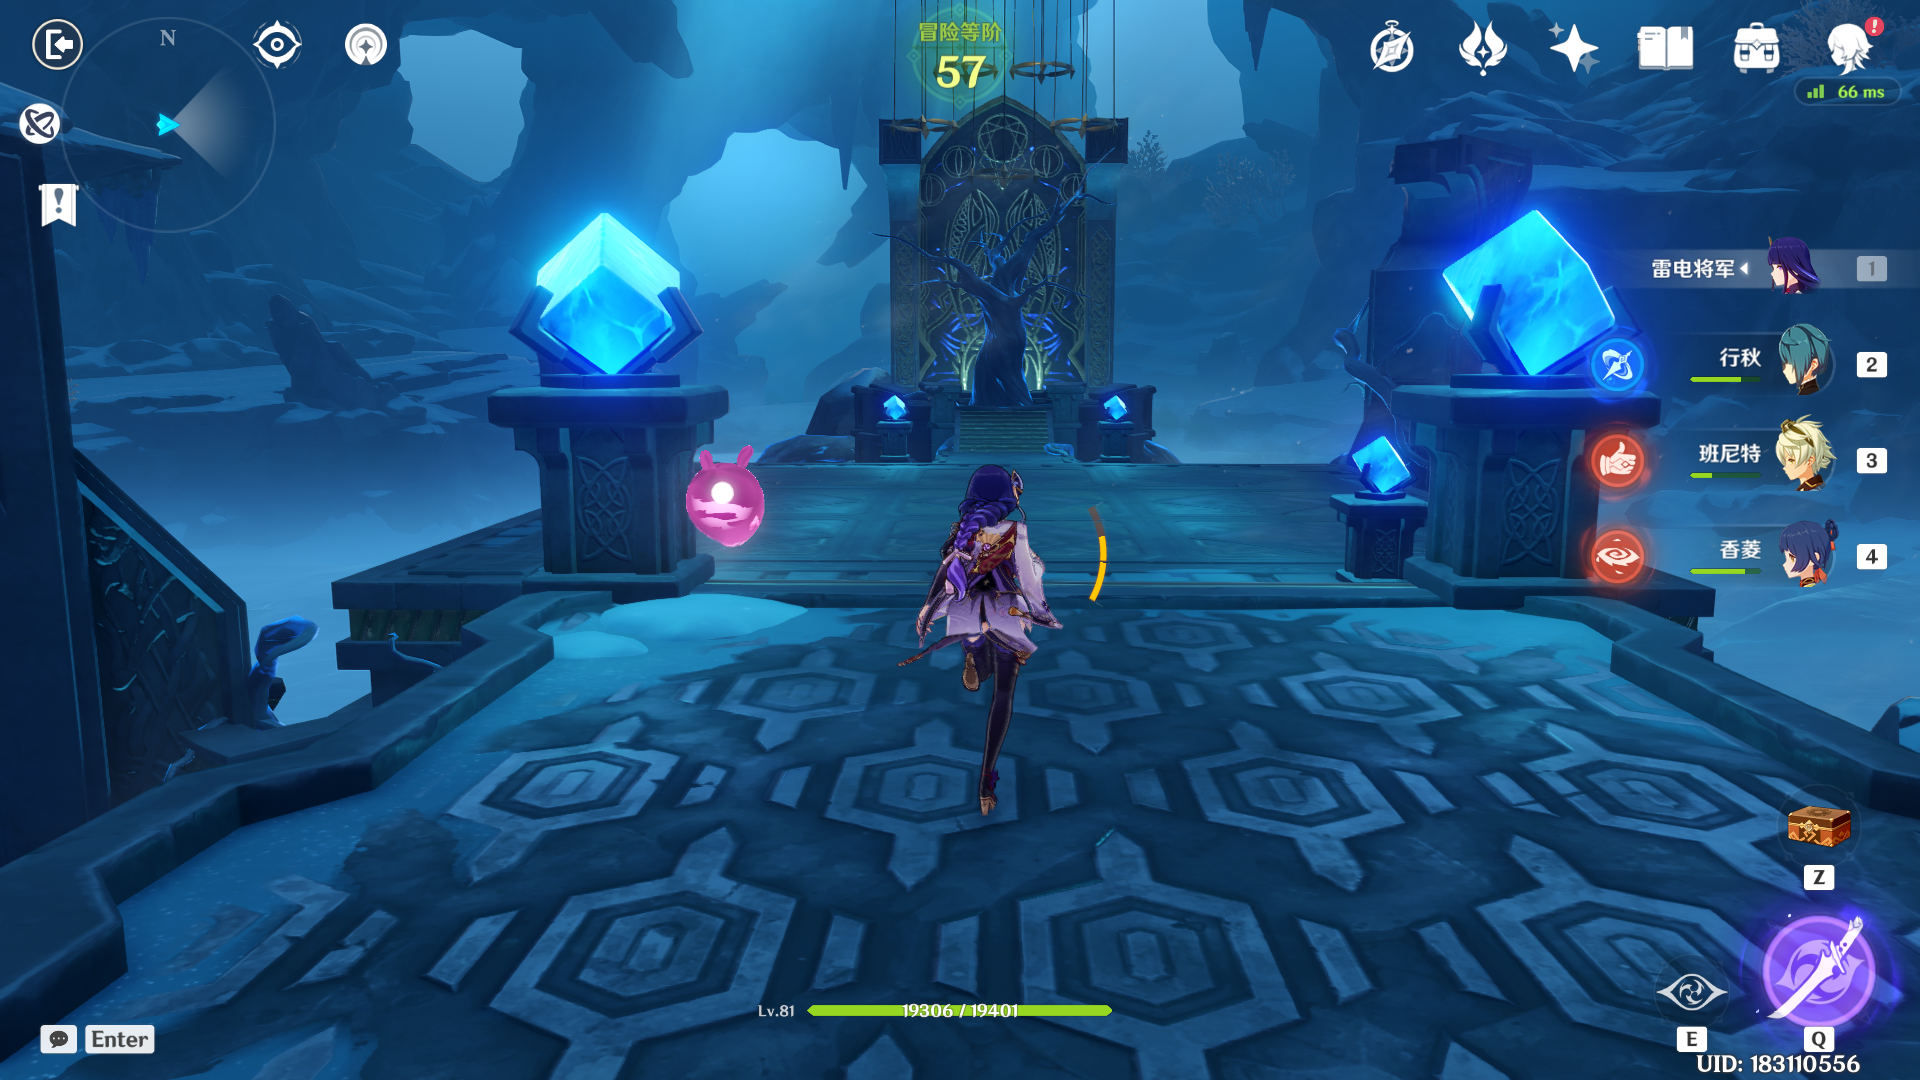character: (890, 431, 1091, 848)
